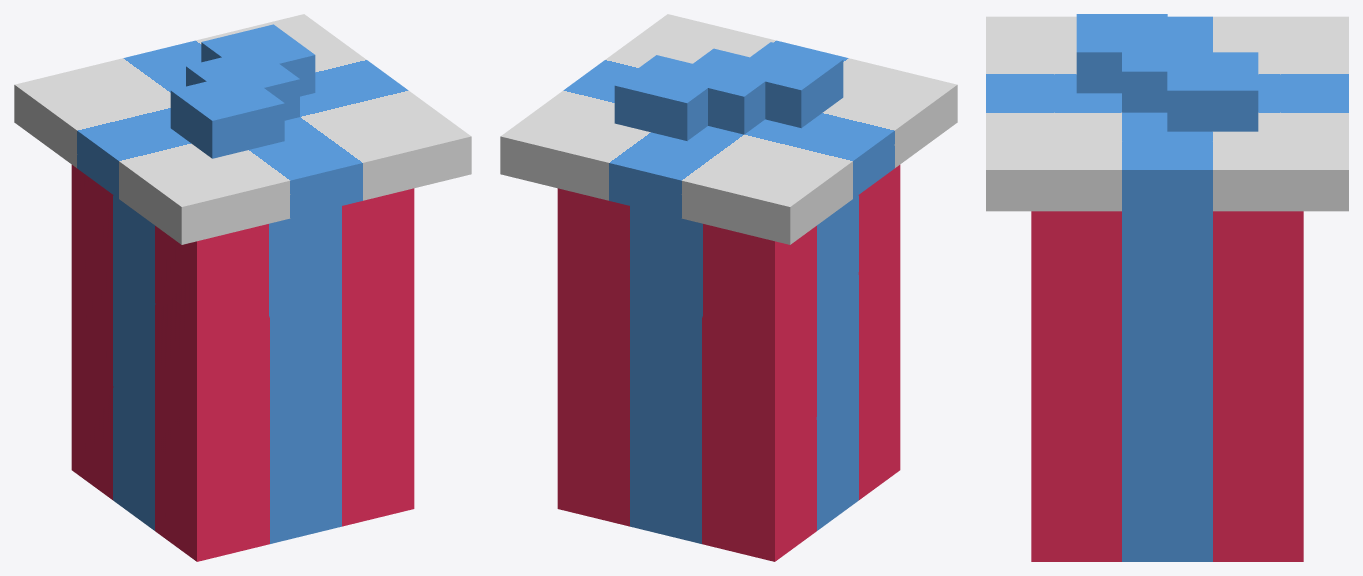
File: item_gift_2.dae
3 renders of one model, left to right at view 1: azimuth 30°, elevation 25°; view 2: azimuth 150°, elevation 25°; view 3: azimuth 270°, elevation 25°, orthographic. The views are drawn at different scales.
Parts seen in each view (by area): view 1: item_gift_2; view 2: item_gift_2; view 3: item_gift_2.
Part boxes in pixels (x1,y1,x2,y2): item_gift_2: [14, 14, 471, 561]; item_gift_2: [500, 14, 957, 561]; item_gift_2: [986, 14, 1348, 561].
Size of the model in its own units: 0.8 by 1.1 by 0.8.
